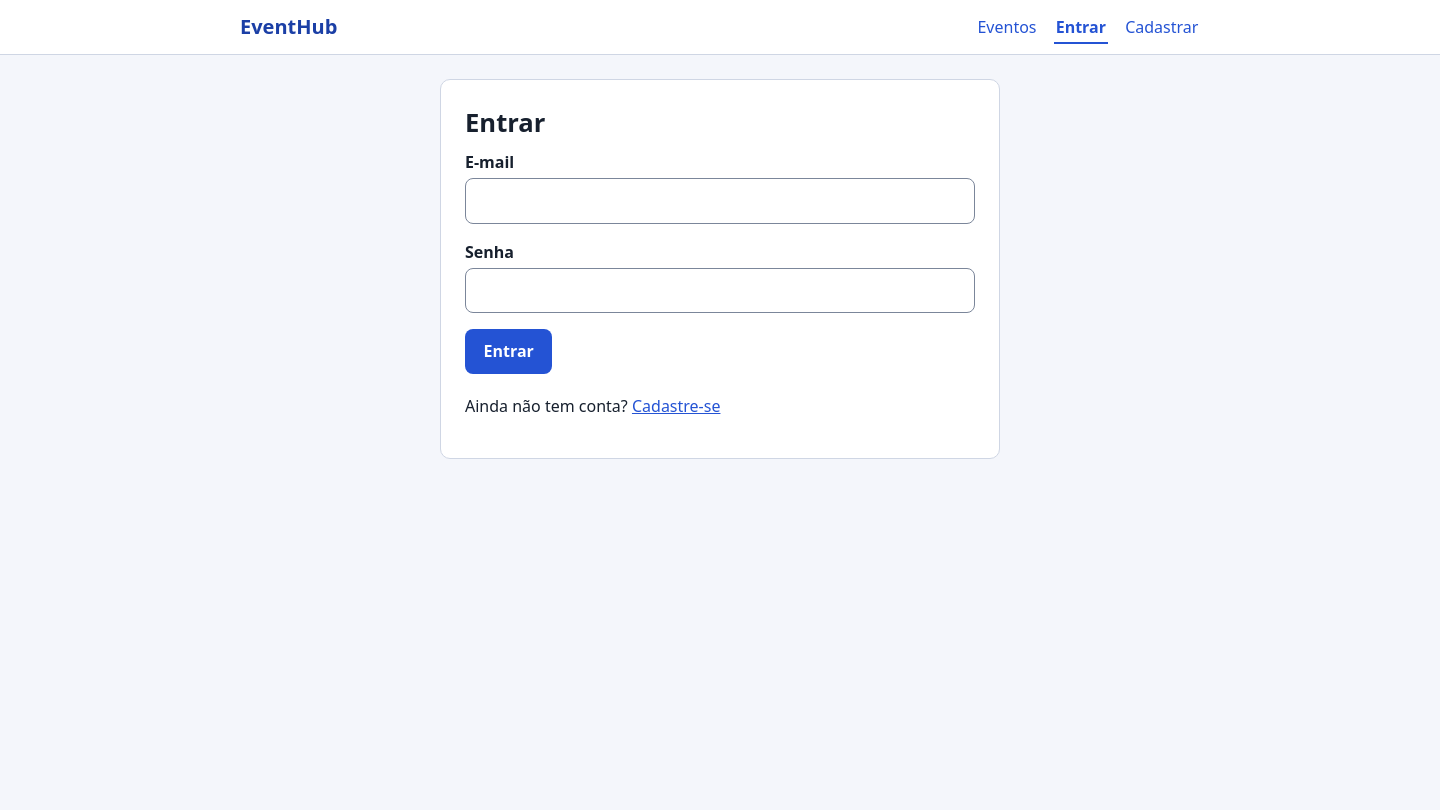
Administração de usuários › erro da decisão (409 de administrador) aparece sem esconder a lista
Step 1. Type "maria@example.com" into the field labelled "E-mail" → (720, 201), box [465,178,975,224]
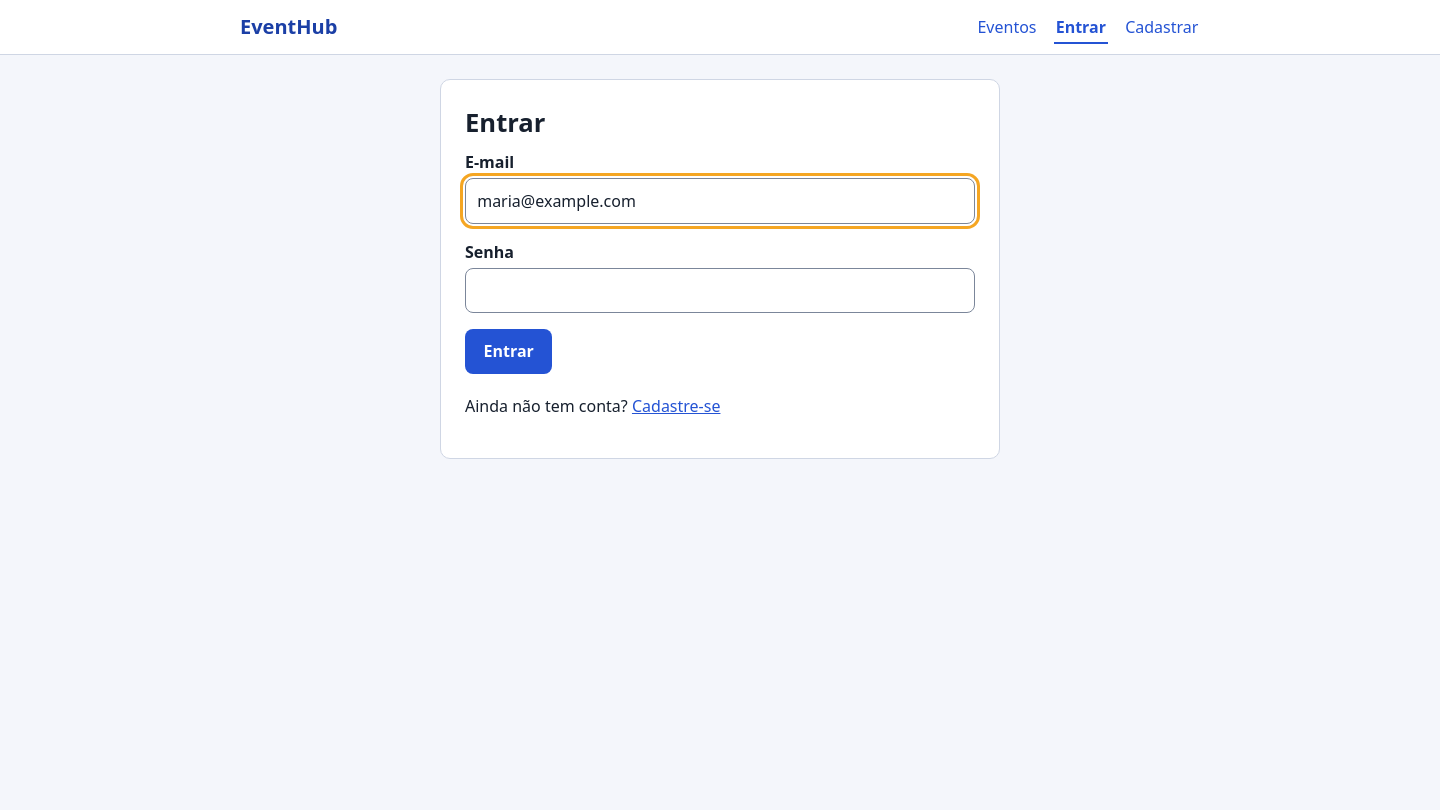
Step 2. Type "senha-forte-123" into the password field labelled "Senha" → (720, 290), box [465,268,975,313]
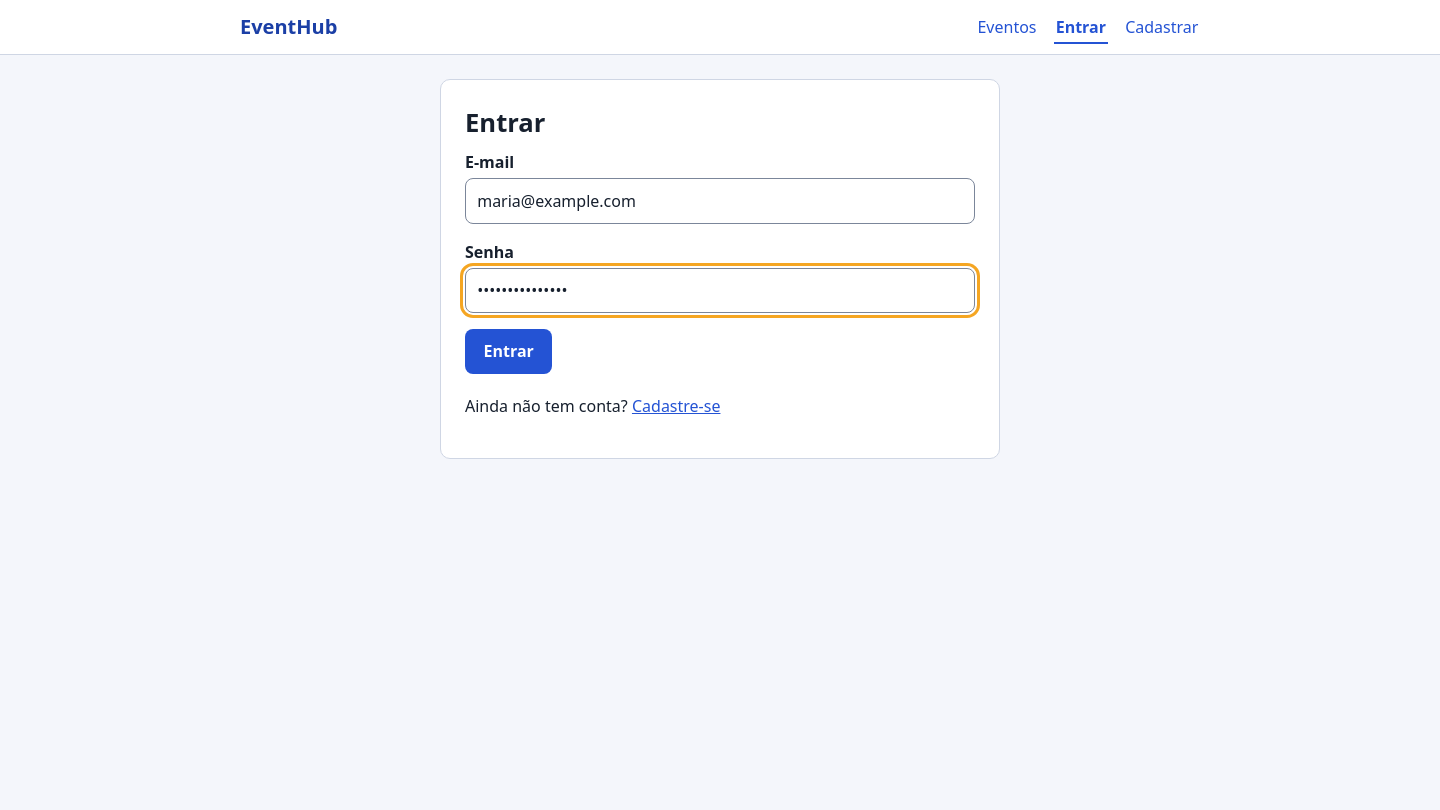
Step 3. Click the button "Entrar" → (509, 351), box [465,329,552,374]
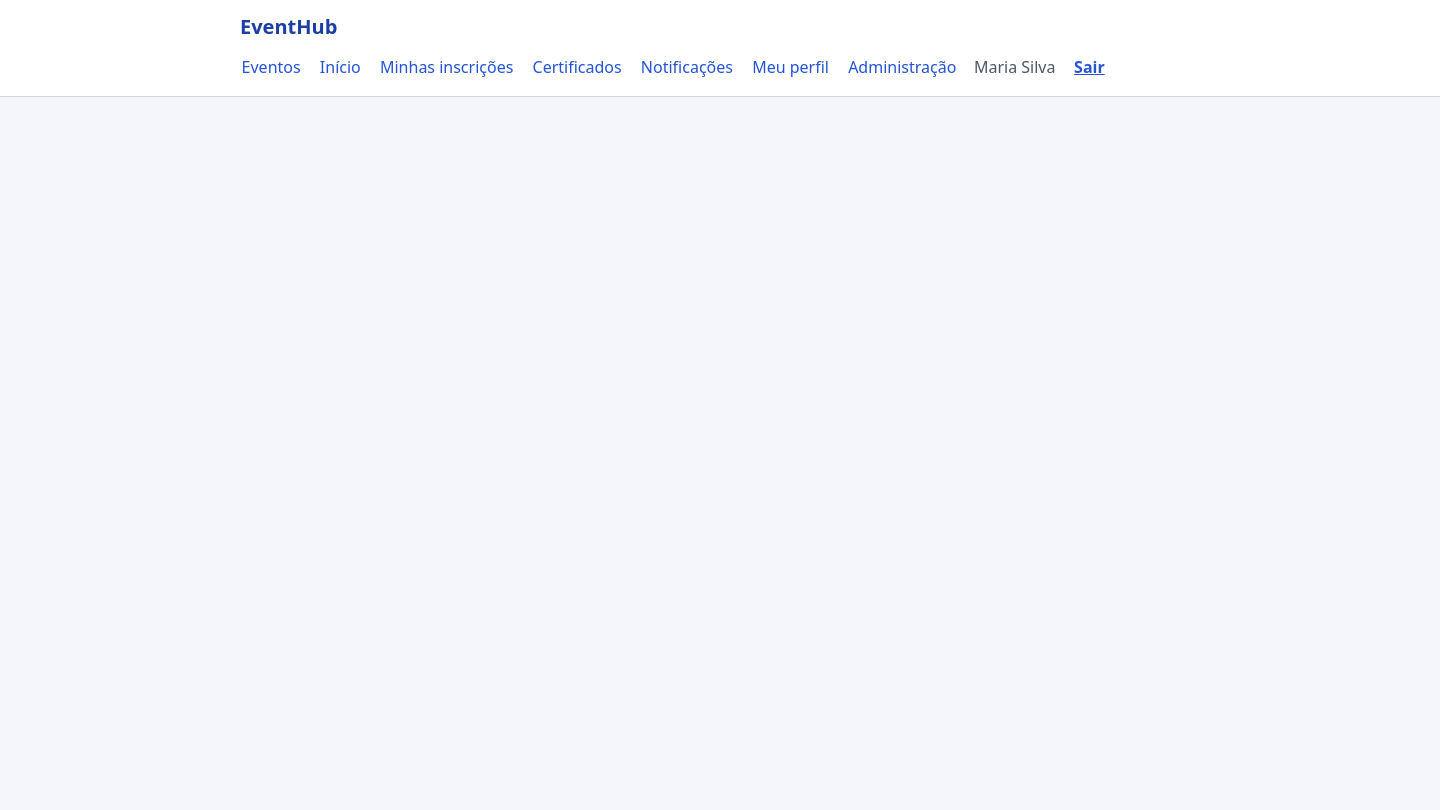
Step 4. Click the link "Administração" → (902, 67), box [846,52,958,82]
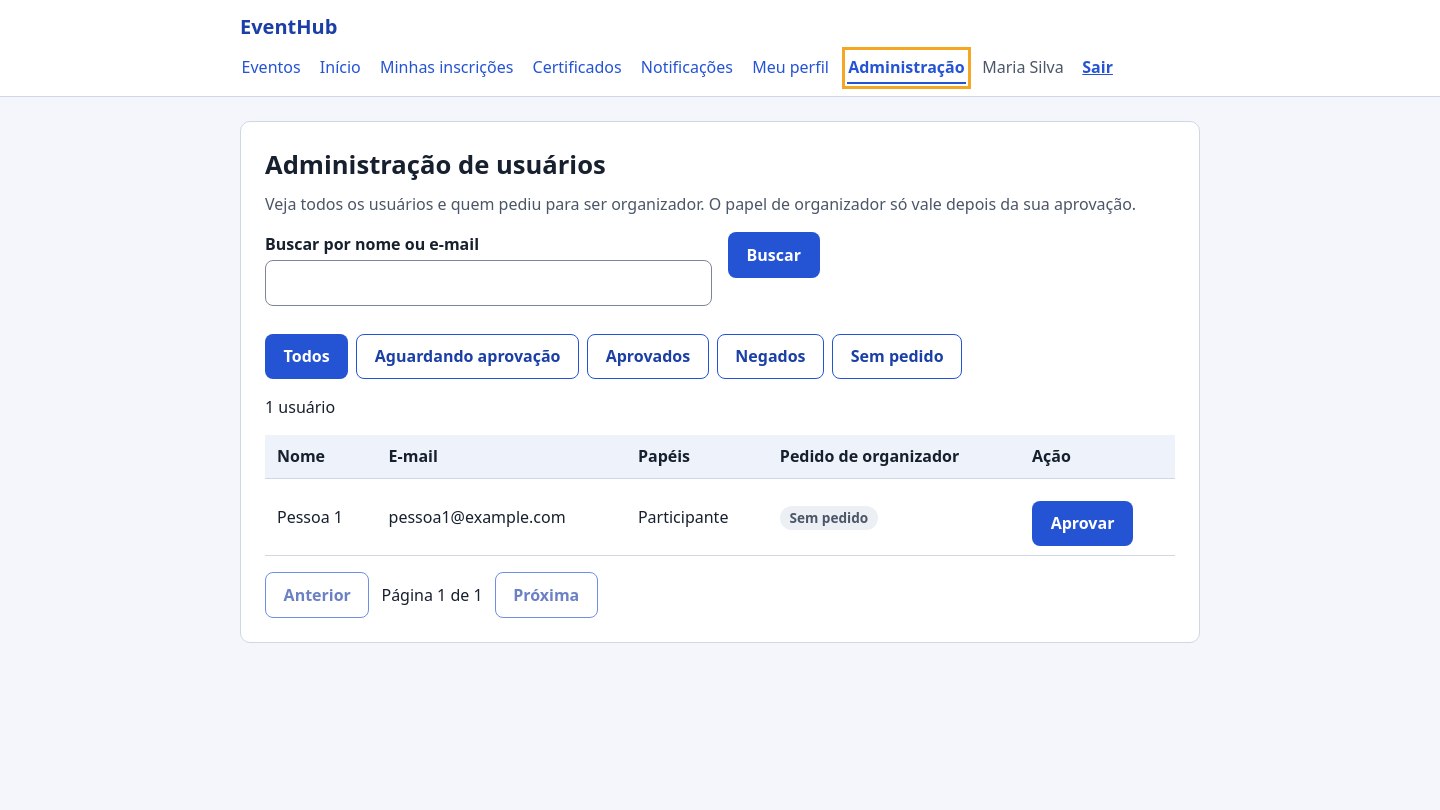
Now the heading "Administração de usuários" is shown, box [265,147,606,182]
Step 5. Click the button with aria-label "Aprovar Pessoa 1" → (1083, 523), box [1032,500,1133,546]
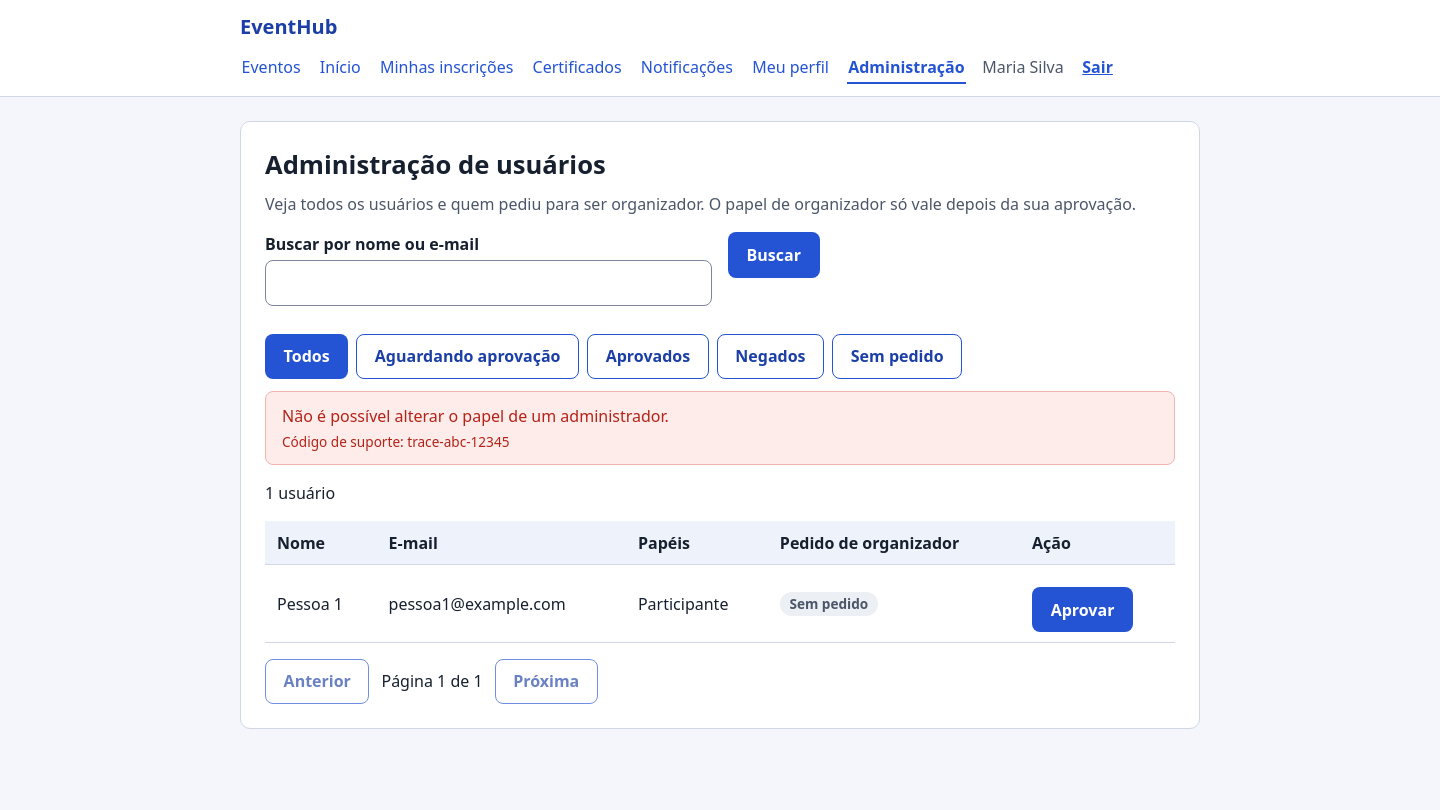
Now the table is shown, box [265,521,1175,643]
Now the text "Não é possível alterar o papel de um administrador." is shown, box [282,405,669,427]
